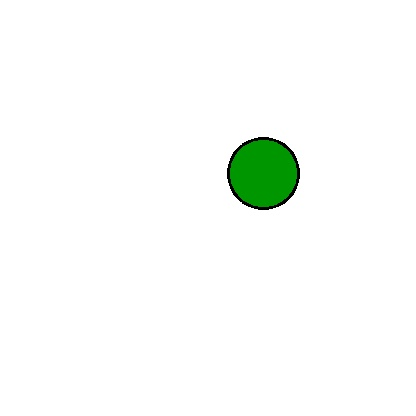circle: (228, 131, 298, 215)
